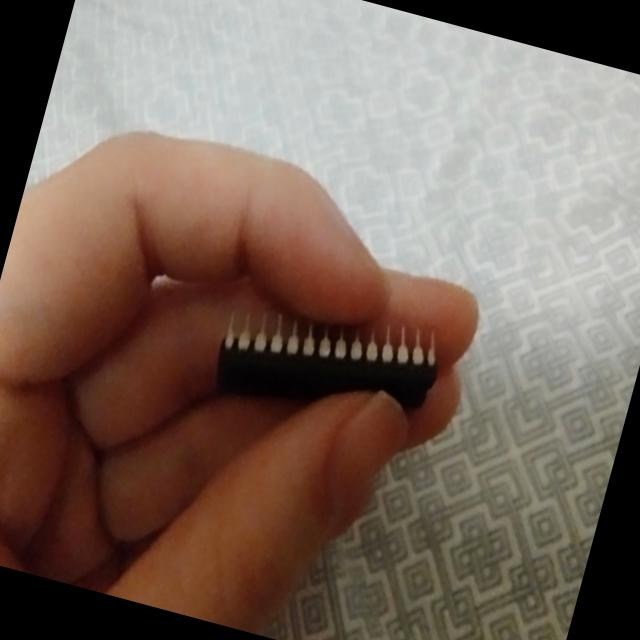atmega: (204, 274, 450, 448)
